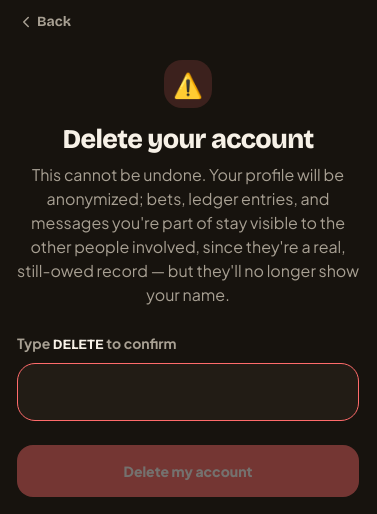
Scenario: DeleteAccountScreen › keeps the delete button disabled until DELETE is typed
Check: the button "Delete my account" is disabled, box [17,445,359,497]
In the field: (188, 392) [17,363,359,421], type "delete"
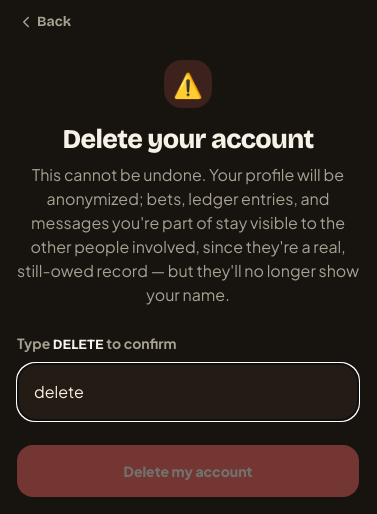
Check: the button "Delete my account" is disabled, box [17,445,359,497]
Replace the text in the field with "DELETE": (188, 392) [17,363,359,421]
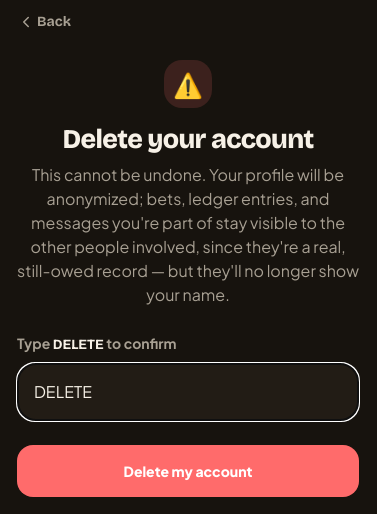
Check: the button "Delete my account" is enabled, box [17,445,359,497]
